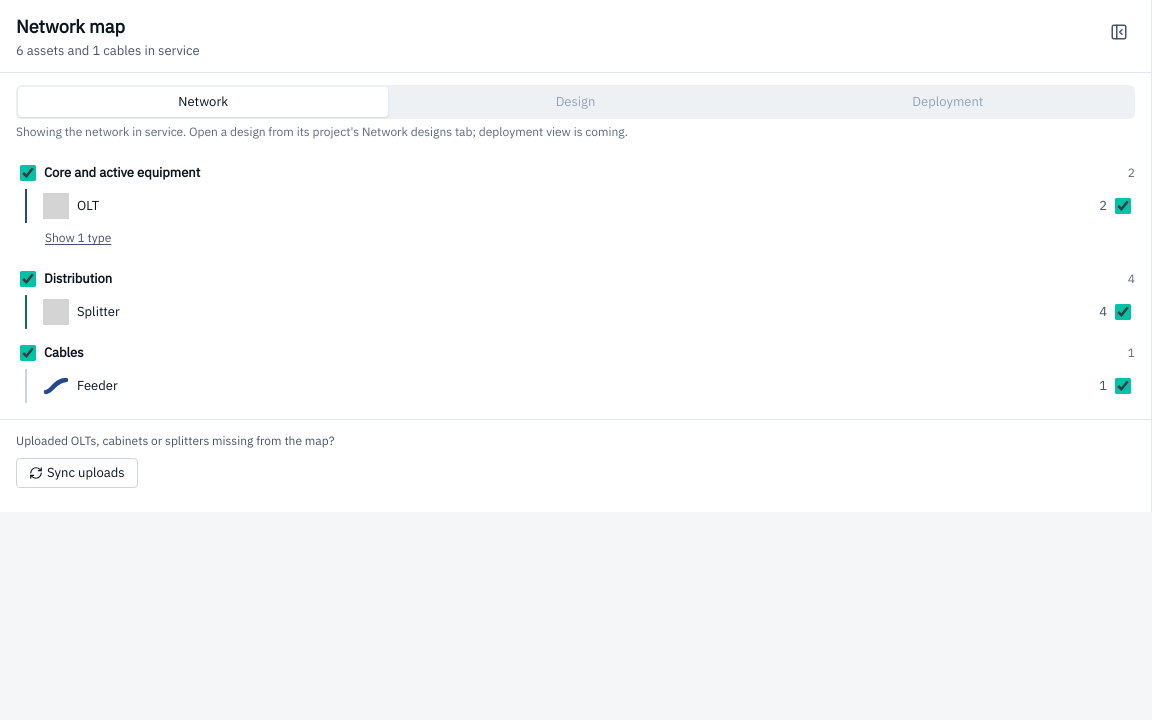
it: LayerPanel › syncs uploaded assets and reports the result
This screenshot has width=1152, height=720.
Click the button "Sync uploads" at (77, 473), box [16,458,138,488]
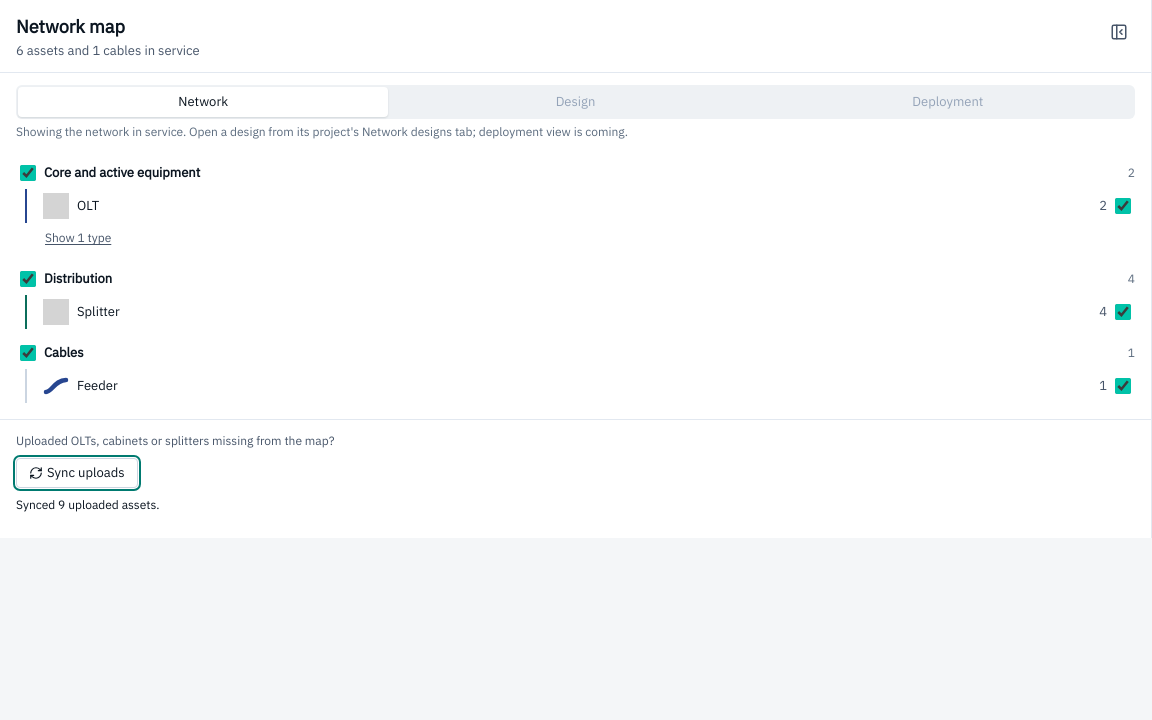
Expected: the text "Synced 9 uploaded assets." is shown, [16,497,160,512]
